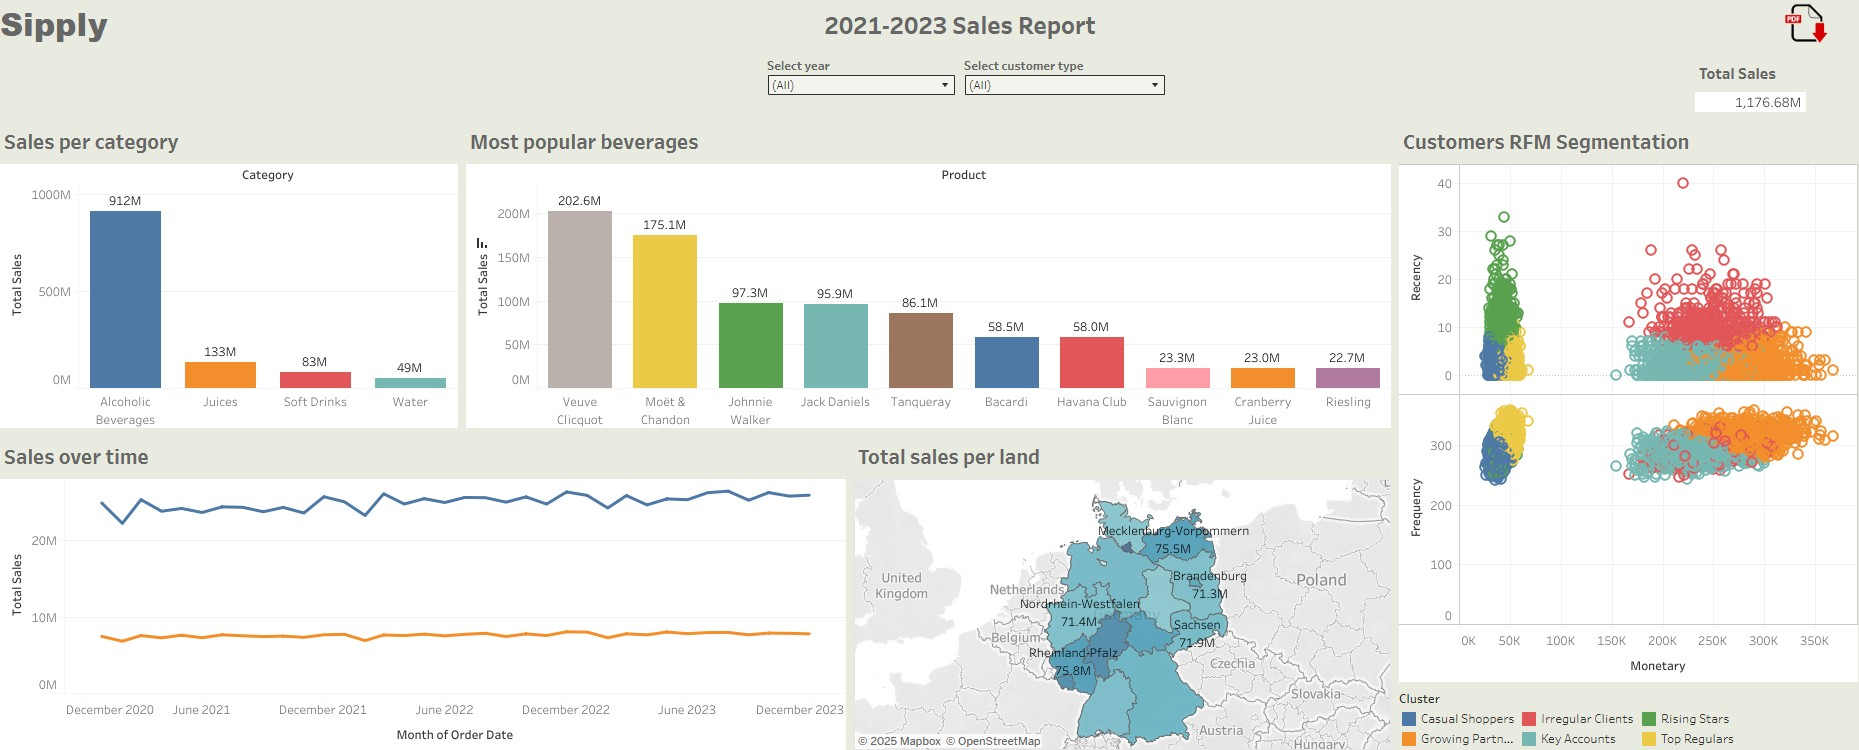

This screenshot's page, from the dashboard's own definition file:
{"tool":"tableau","page":{"name":"Dashboard","canvas":[1000,1000],"units":"permille","ordinal":0},"visuals":[{"type":"text","box":[4.7,9.3,91.7,73.6]},{"type":"text","box":[96.4,9.3,839.7,73.6]},{"type":"dashboard-object","box":[936.1,9.3,59.1,73.6]},{"type":"filter","title":"Sales per category","param":"[federated.14ekmxy0336ard1gyaxo51ekfbmp].[yr:Order_Date:ok]","box":[411.9,82.9,104.8,84.1]},{"type":"filter","title":"Sales per category","param":"[federated.14ekmxy0336ard1gyaxo51ekfbmp].[none:Customer_Type:nk]","box":[516.6,82.9,111.2,84.1]},{"type":"worksheet","title":"Total Sales","mark":"Automatic","box":[904.5,82.9,90.8,84.1]},{"type":"worksheet","title":"Sales per category","mark":"Automatic","rows":["Total_Price"],"cols":["Category"],"box":[4.7,167.1,247.6,407.1]},{"type":"worksheet","title":"Most popular beverages","mark":"Automatic","rows":["Total_Price"],"cols":["Product"],"box":[252.3,167.1,495.3,407.1]},{"type":"worksheet","title":"RFM Segmentation","mark":"Automatic","rows":["Recency","Frequency"],"cols":["Monetary"],"box":[747.6,167.1,247.7,736]},{"type":"worksheet","title":"Sales over time","mark":"Automatic","rows":["Total_Price"],"cols":["Order_Date"],"box":[4.7,574.2,453.6,416.5]},{"type":"worksheet","title":"Total sales per land","mark":"Multipolygon","box":[458.3,574.2,289.3,416.5]},{"type":"legend","title":"RFM Segmentation","param":"[federated.14k6mqd001arhh11ynqia0pm5rdd].[none:Calculation_1227793917064499200:n","box":[747.6,903,247.7,87.6]}]}

Visuals, with their boxes on the dashboard's canvas, which has no fixed pixel size, in thousandths of its width and height (x1, y1, x2, y2). These are canvas units, not pixel positions in the 1859x750 screenshot, which may show the page scaled, cropped or inside an application window:
text: <box>5,9,96,83</box>
text: <box>96,9,936,83</box>
dashboard-object: <box>936,9,995,83</box>
"Sales per category" filter: <box>412,83,517,167</box>
"Sales per category" filter: <box>517,83,628,167</box>
"Total Sales" worksheet: <box>904,83,995,167</box>
"Sales per category" worksheet: <box>5,167,252,574</box>
"Most popular beverages" worksheet: <box>252,167,748,574</box>
"RFM Segmentation" worksheet: <box>748,167,995,903</box>
"Sales over time" worksheet: <box>5,574,458,991</box>
"Total sales per land" worksheet (Multipolygon marks): <box>458,574,748,991</box>
"RFM Segmentation" legend: <box>748,903,995,991</box>
